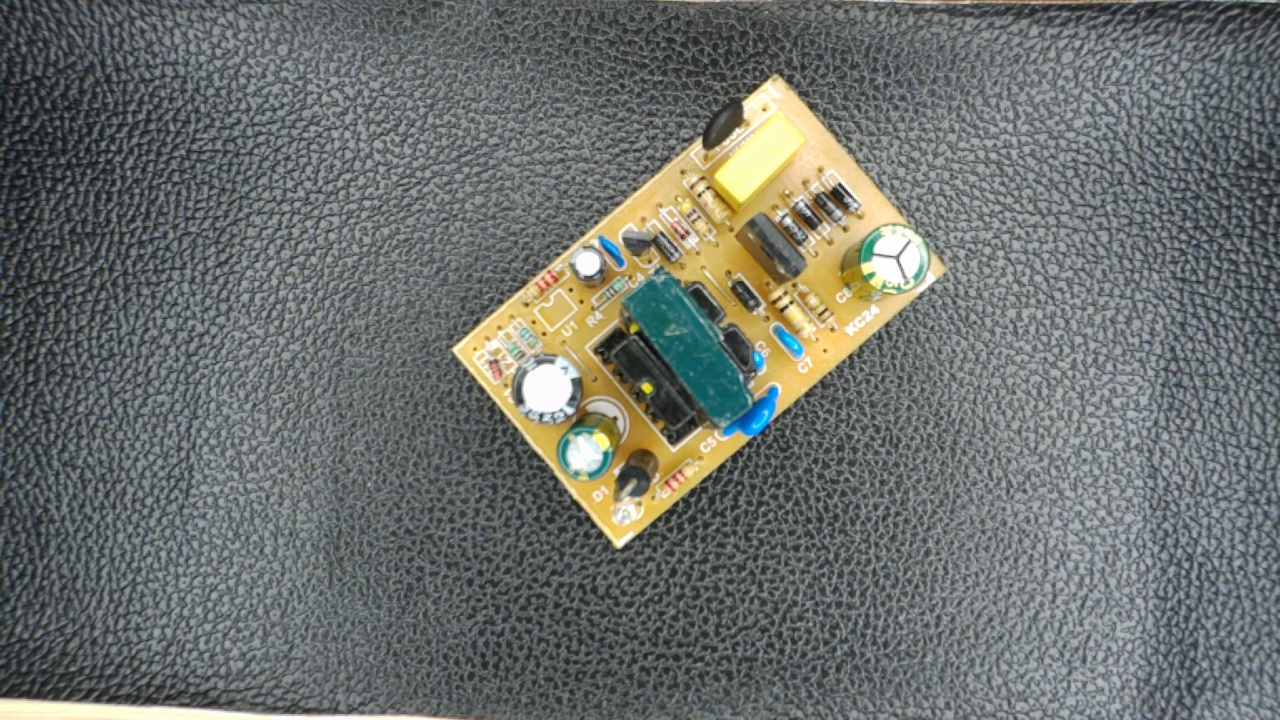fuse: (698, 99, 752, 168)
hv_capacitor: (842, 216, 930, 305)
mov: (714, 381, 785, 447)
